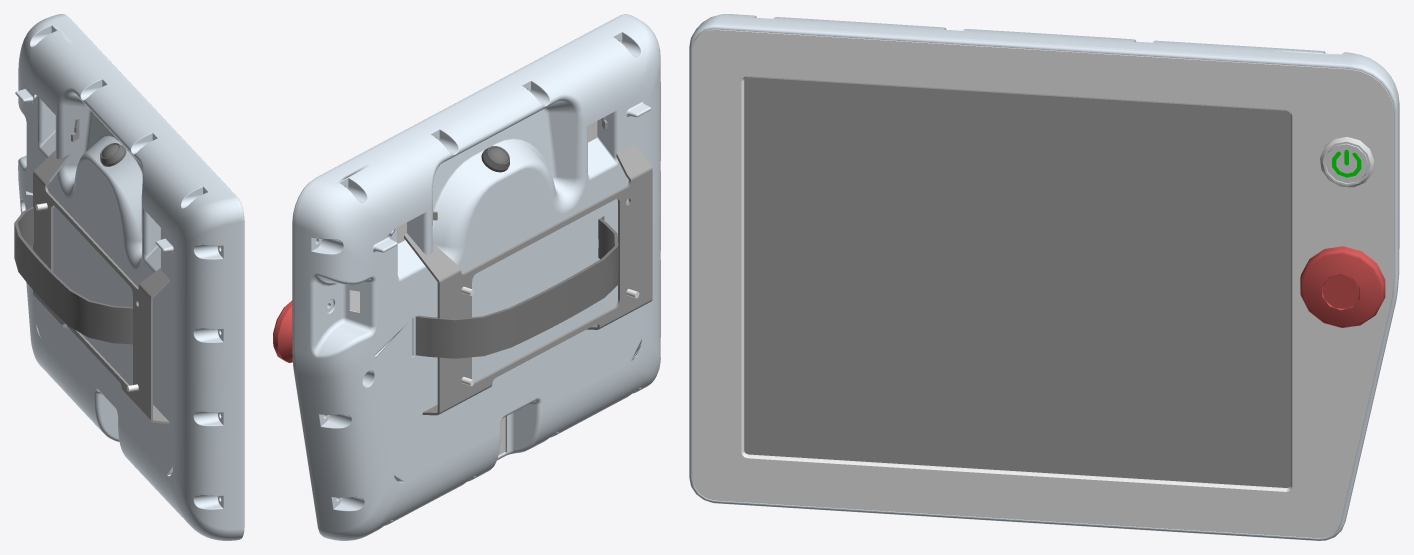
Rendered from UR3_Controller.fbx.
3 renders of one model, left to right at view 1: azimuth 30°, elevation 25°; view 2: azimuth 150°, elevation 25°; view 3: azimuth 270°, elevation 25°, orthographic. The views are drawn at different scales.
Parts seen in each view (by area): view 1: UR3_Controller.006; view 2: UR3_Controller.006; view 3: UR3_Controller.006.
Part boxes in pixels (x1,y1,x2,y2): UR3_Controller.006: (14,14,244,540); UR3_Controller.006: (273,14,660,540); UR3_Controller.006: (689,14,1399,540).
Bounding box in the file's own units: 11.92 × 23.8 × 32.01.
